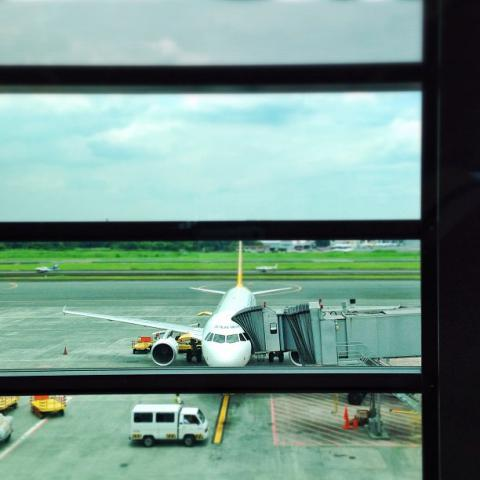truck: (128, 404, 211, 448), (30, 394, 66, 418), (132, 336, 154, 354)
